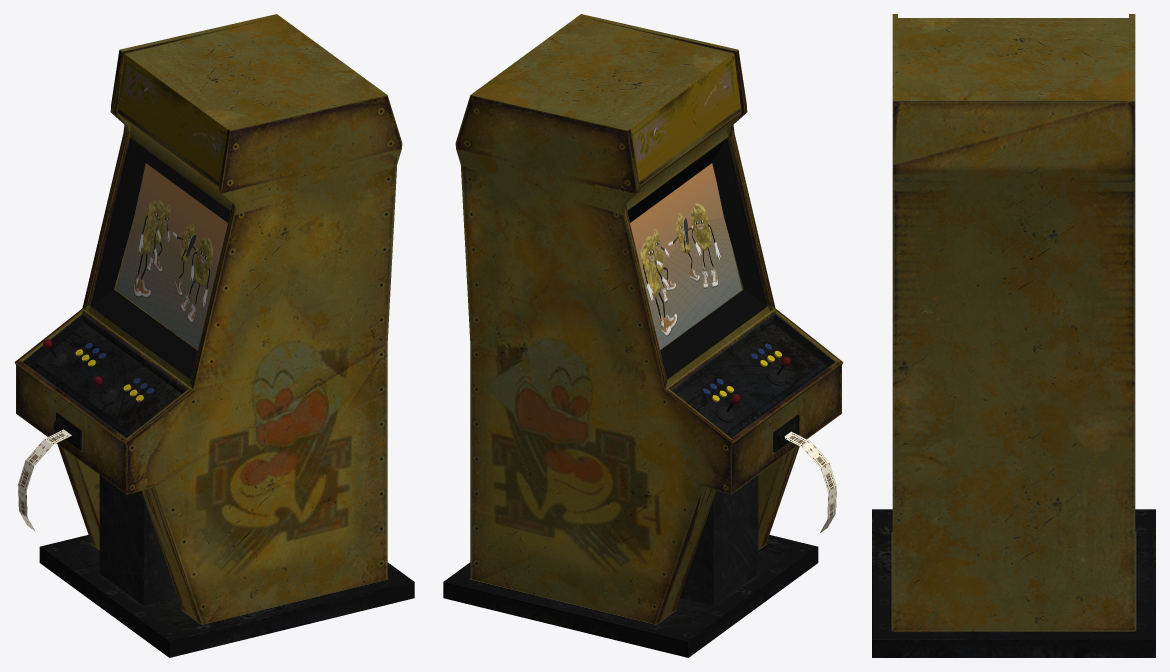
File: arcade.gltf
The picture shows the model from 3 angles, left to right: view 1: azimuth 30°, elevation 25°; view 2: azimuth 150°, elevation 25°; view 3: azimuth 270°, elevation 25°; orthographic projection. The views are drawn at different scales.
Visible parts, largest first — view 1: arcade, dddancescreen; view 2: arcade, dddancescreen; view 3: arcade.
Part boxes in pixels (x1,y1,x2,y2): arcade: [14, 14, 414, 657]; dddancescreen: [116, 163, 227, 349]; arcade: [443, 14, 843, 657]; dddancescreen: [630, 163, 742, 349]; arcade: [872, 14, 1155, 657].
Size of the model in its own units: 2.19 by 3.23 by 1.51.
2 materials, 2 textured.
